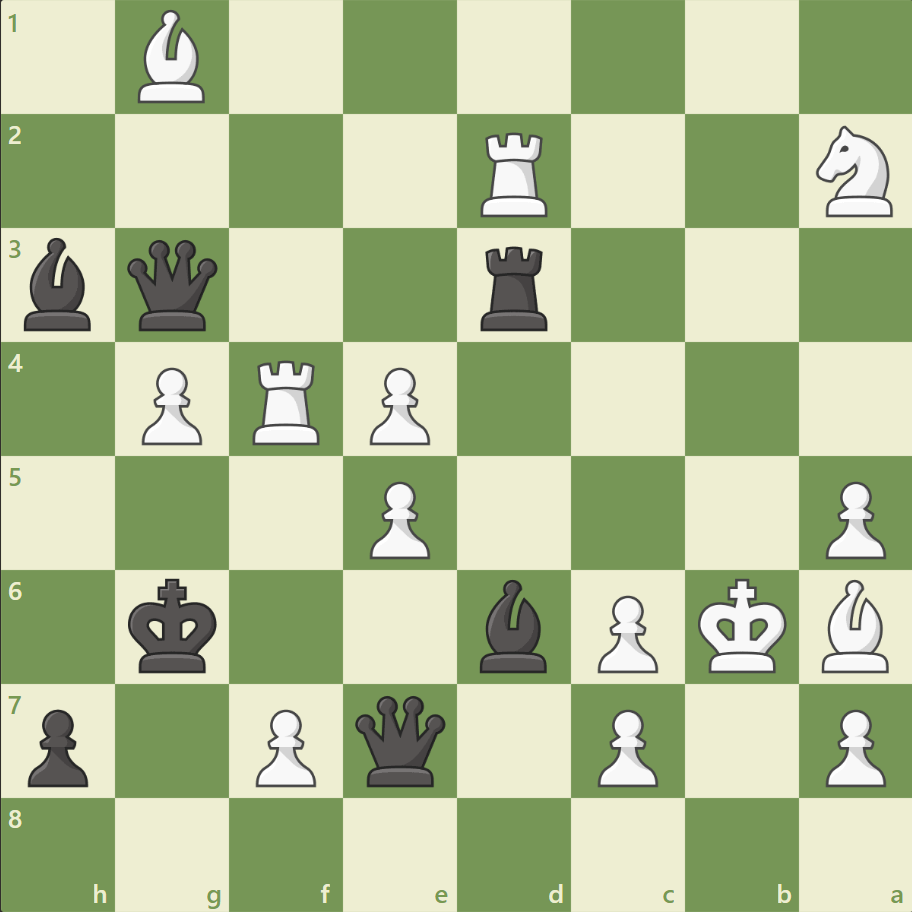B: (131, 6, 215, 109), (812, 574, 896, 676)
K: (692, 571, 792, 679)
N: (806, 121, 903, 223)
P: (247, 700, 322, 791), (133, 359, 208, 450), (815, 700, 889, 791), (588, 700, 662, 791), (588, 586, 662, 677), (815, 473, 889, 564), (361, 473, 435, 564), (361, 359, 435, 450)
R: (246, 352, 329, 449), (473, 125, 556, 222)
b: (17, 233, 101, 336), (471, 574, 555, 676)
k: (124, 571, 224, 679)
p: (20, 700, 95, 791)
q: (351, 690, 450, 789), (124, 236, 223, 335)
r: (473, 239, 556, 336)
